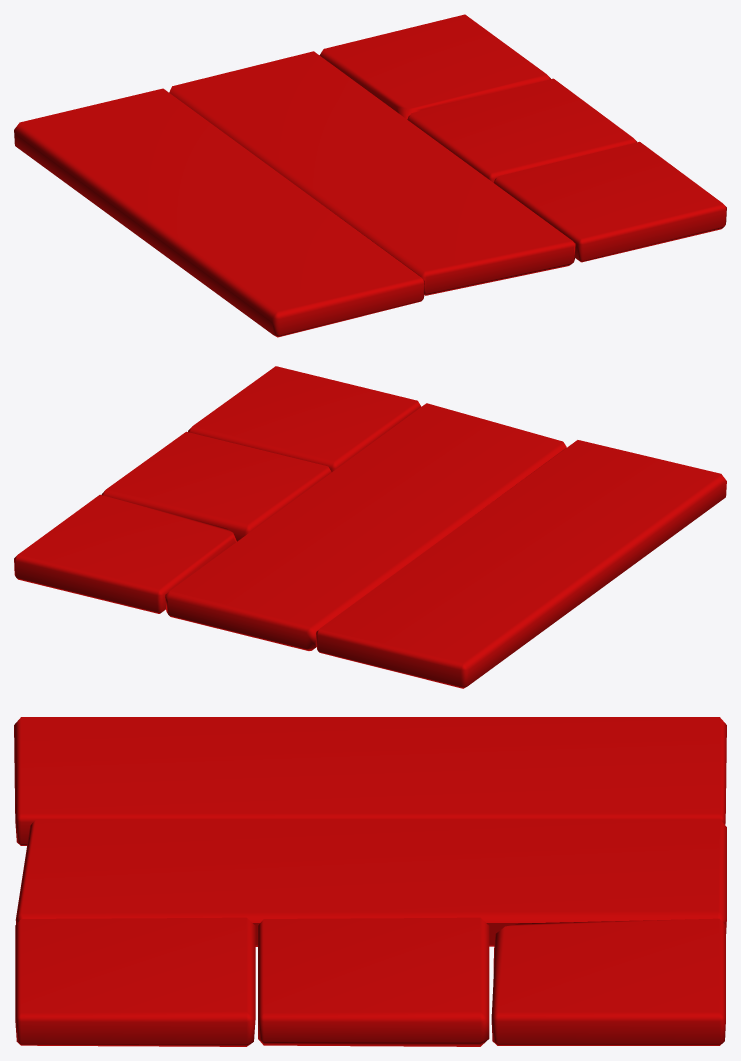
File: Cty_Bld_Raft03_Mod.fbx
3 renders of one model, top to bottom at view 1: azimuth 30°, elevation 25°; view 2: azimuth 150°, elevation 25°; view 3: azimuth 270°, elevation 25°, orthographic. The views are drawn at different scales.
Parts seen in each view (by area): view 1: Cty_Bld_Raft03_Mod; view 2: Cty_Bld_Raft03_Mod; view 3: Cty_Bld_Raft03_Mod.
Boxes of the visible parts, <box> form: Cty_Bld_Raft03_Mod: <box>14,14,726,337</box>; Cty_Bld_Raft03_Mod: <box>14,366,726,688</box>; Cty_Bld_Raft03_Mod: <box>14,717,726,1046</box>.
Size of the model in its own units: 997 by 56.67 by 998.
